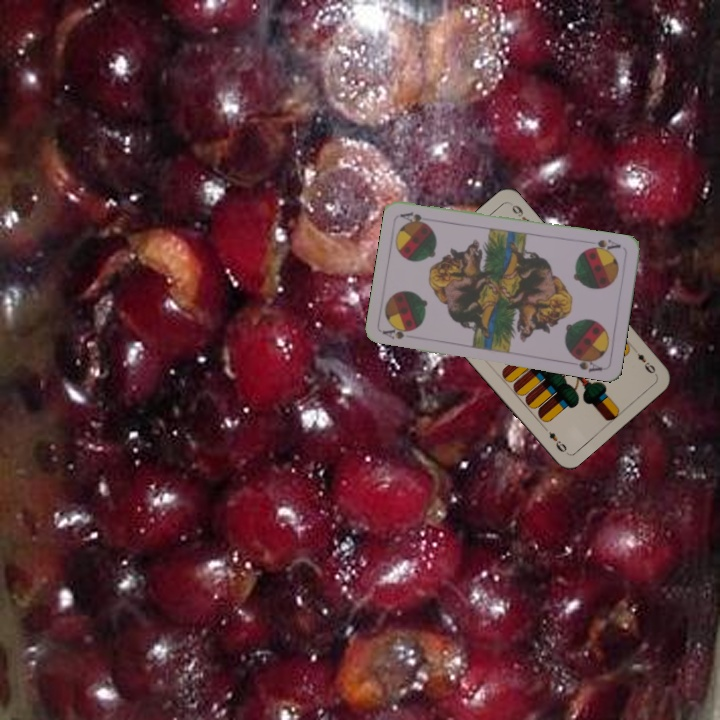E9: (633, 348, 658, 376)
SA: (584, 235, 623, 255), (379, 322, 417, 342)
